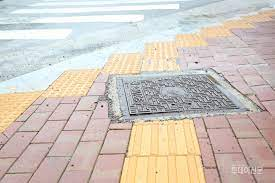guide_blocks: (121, 120, 202, 183), (45, 69, 96, 95), (1, 92, 40, 126), (144, 42, 178, 69), (102, 52, 141, 74), (177, 33, 205, 47), (204, 26, 232, 36), (226, 20, 254, 29), (248, 15, 271, 22)
